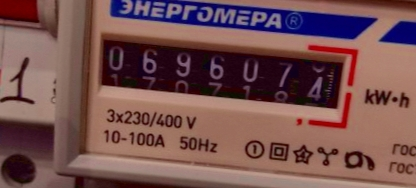0: (104, 44, 128, 74), (241, 55, 262, 86), (140, 48, 160, 75)
4: (305, 75, 325, 104)
6: (206, 51, 227, 83)
7: (273, 59, 294, 90)
9: (173, 50, 194, 80)
screen: (80, 19, 361, 130)
